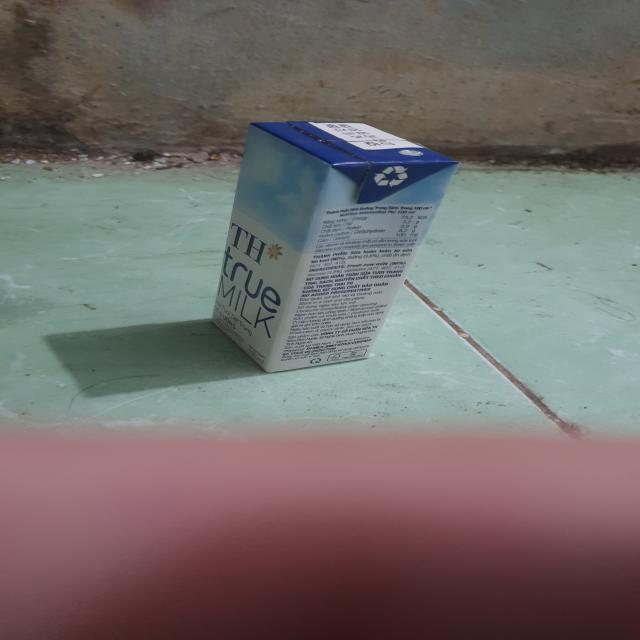TH: (208, 121, 464, 375)
